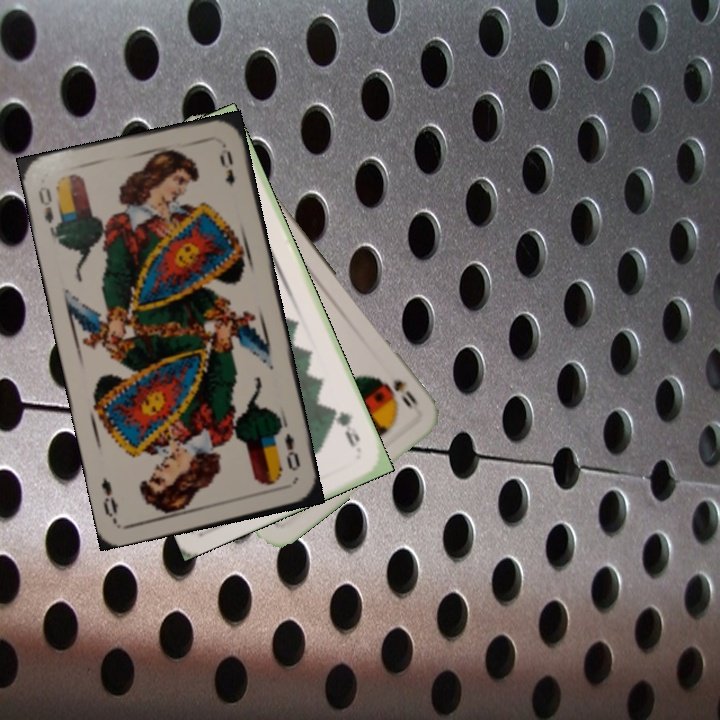EO: (34, 182, 65, 237), (281, 429, 303, 474)
G9: (329, 404, 363, 451)
SO: (388, 375, 421, 414)
